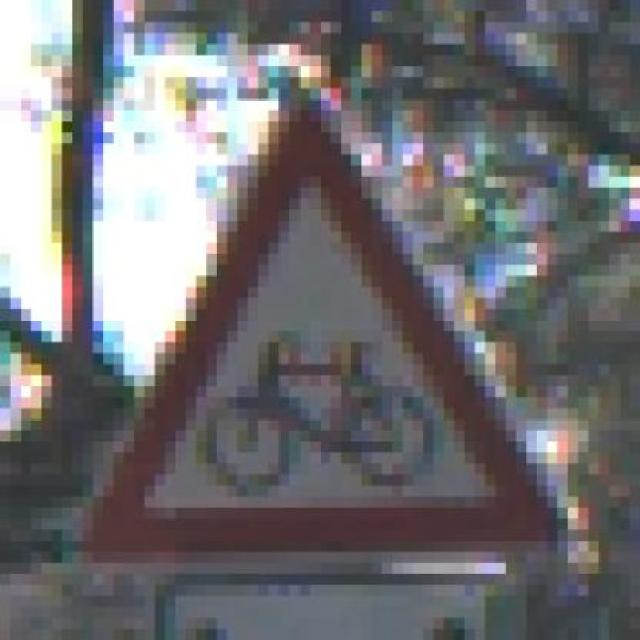CYCLE ROUTE AHEAD WARNING: (61, 66, 578, 563)
